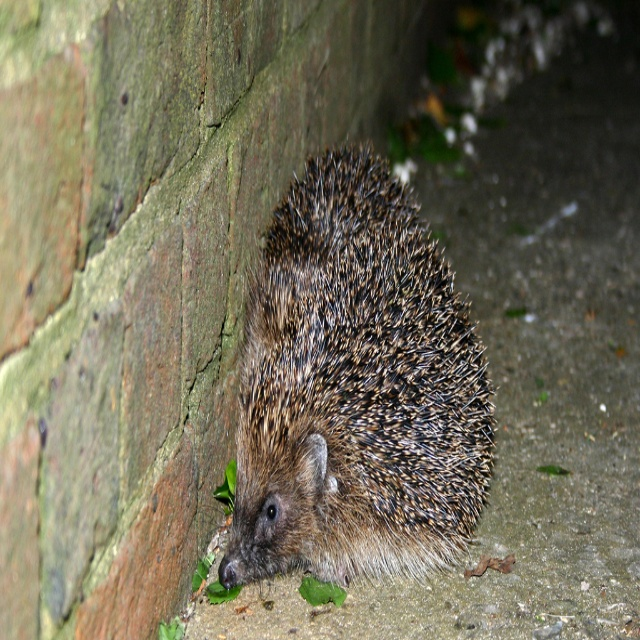Hedgehog: (218, 133, 498, 596)
